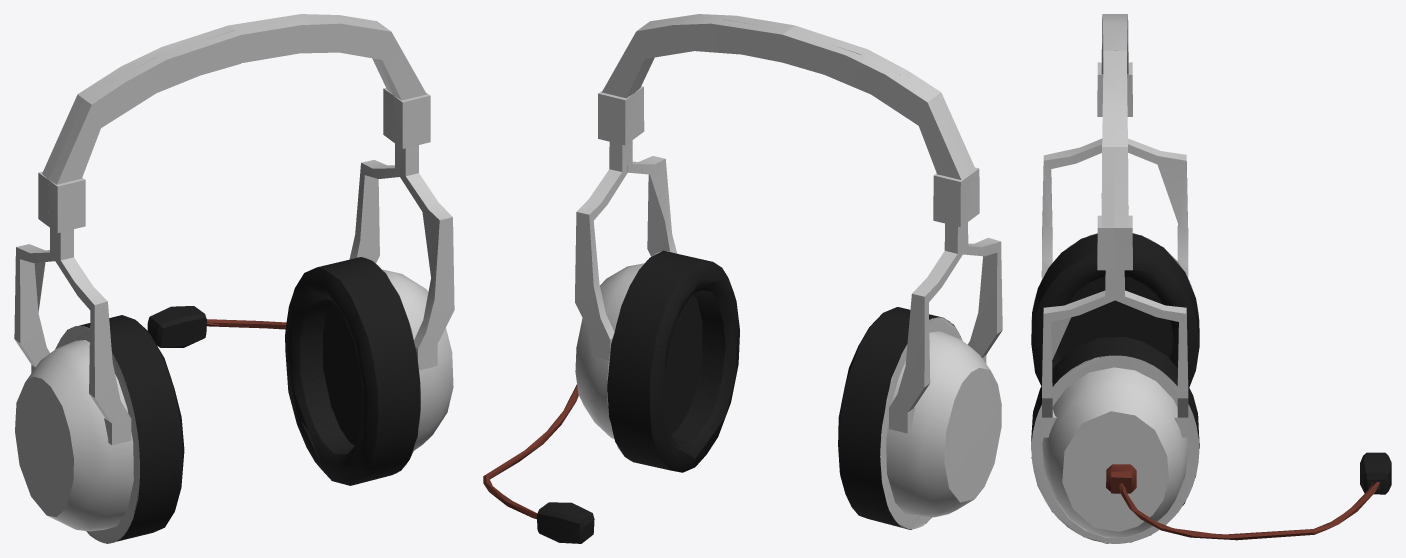
The model's file is Headphone.fbx.
3 views of the same model, side by side, from view 1: azimuth 30°, elevation 25°; view 2: azimuth 150°, elevation 25°; view 3: azimuth 270°, elevation 25° (orthographic). The views are drawn at different scales.
Parts seen in each view (by area): view 1: Cylinder.001; view 2: Cylinder.001; view 3: Cylinder.001.
Part boxes in pixels (box(x1,y1,x2,y2)): Cylinder.001: box(14, 14, 454, 543); Cylinder.001: box(483, 14, 1002, 543); Cylinder.001: box(1031, 14, 1391, 543).
Bounding box in the file's own units: 229 × 261 × 198.
